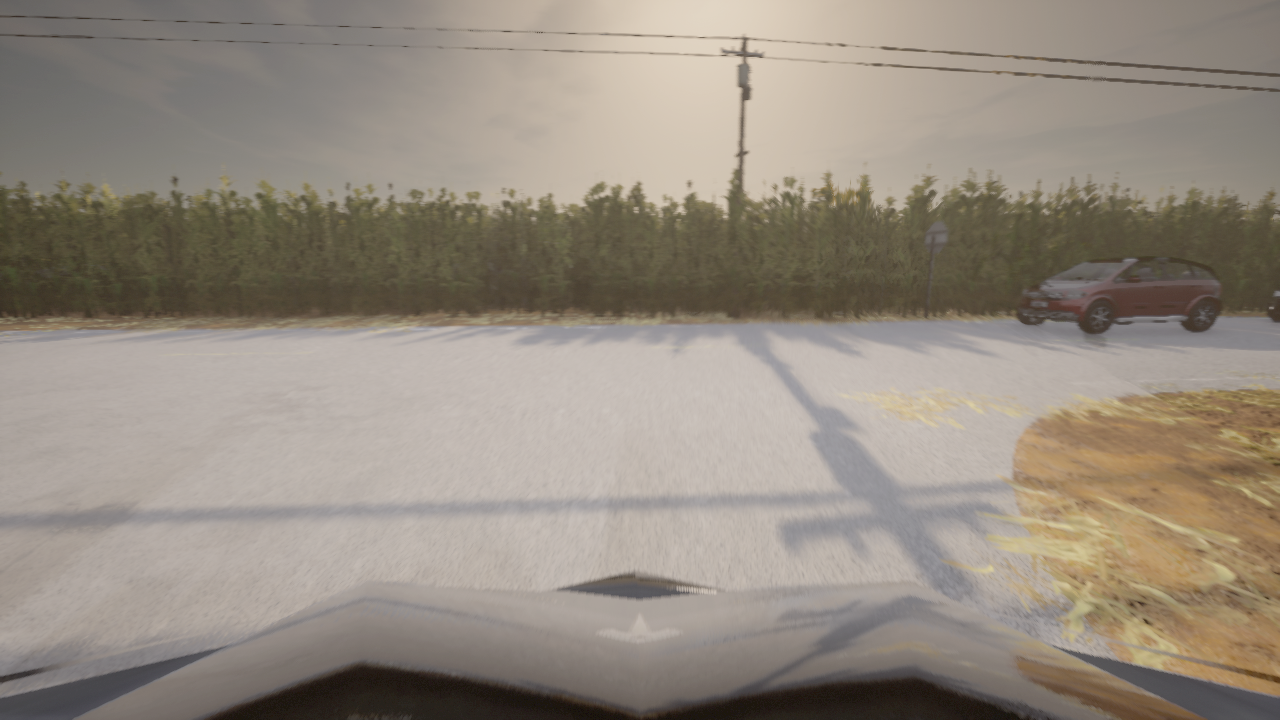cyclist: (0, 569, 1279, 719), (1016, 257, 1221, 332), (1266, 287, 1279, 320)
